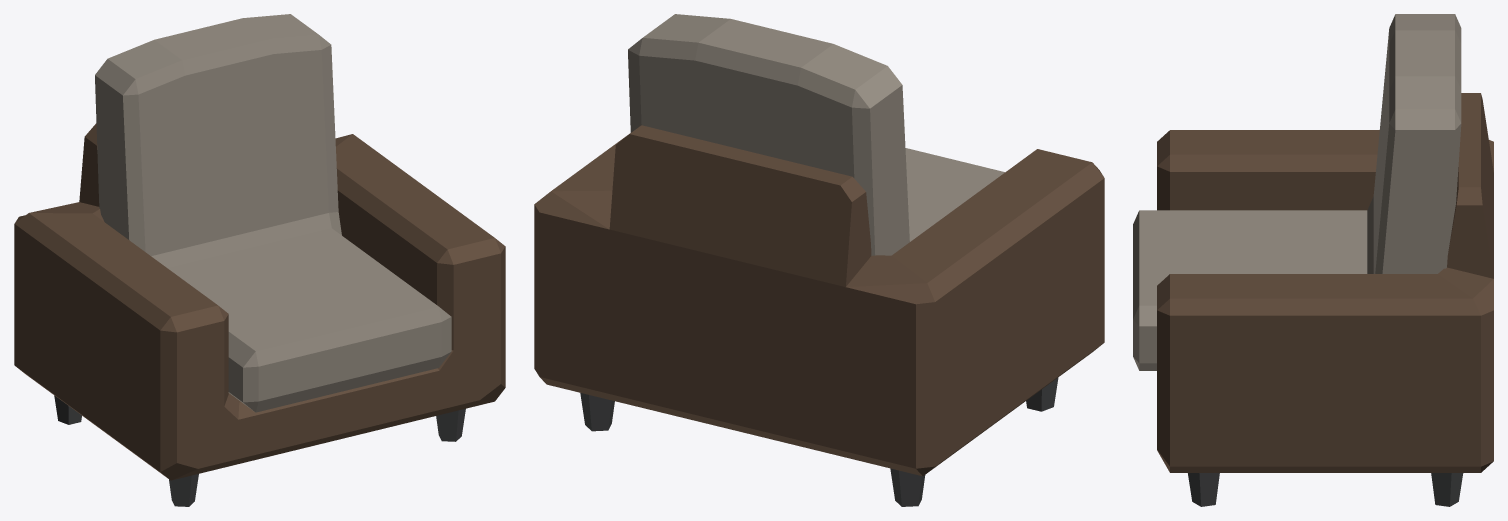
Rendered from SM_Props_Interior_House_Room_Sofa_01_Armchair.fbx.
3 renders of one model, left to right at view 1: azimuth 30°, elevation 25°; view 2: azimuth 150°, elevation 25°; view 3: azimuth 270°, elevation 25°, orthographic. The views are drawn at different scales.
Visible parts, largest first — view 1: SM_Props_Interior_House_Room_Sofa_01_Armchair; view 2: SM_Props_Interior_House_Room_Sofa_01_Armchair; view 3: SM_Props_Interior_House_Room_Sofa_01_Armchair.
Part boxes in pixels (<box>): SM_Props_Interior_House_Room_Sofa_01_Armchair: <box>14,14,505,506</box>; SM_Props_Interior_House_Room_Sofa_01_Armchair: <box>534,14,1104,506</box>; SM_Props_Interior_House_Room_Sofa_01_Armchair: <box>1133,14,1493,506</box>.
Bounding box in the file's own units: 88.27 × 86.85 × 75.
